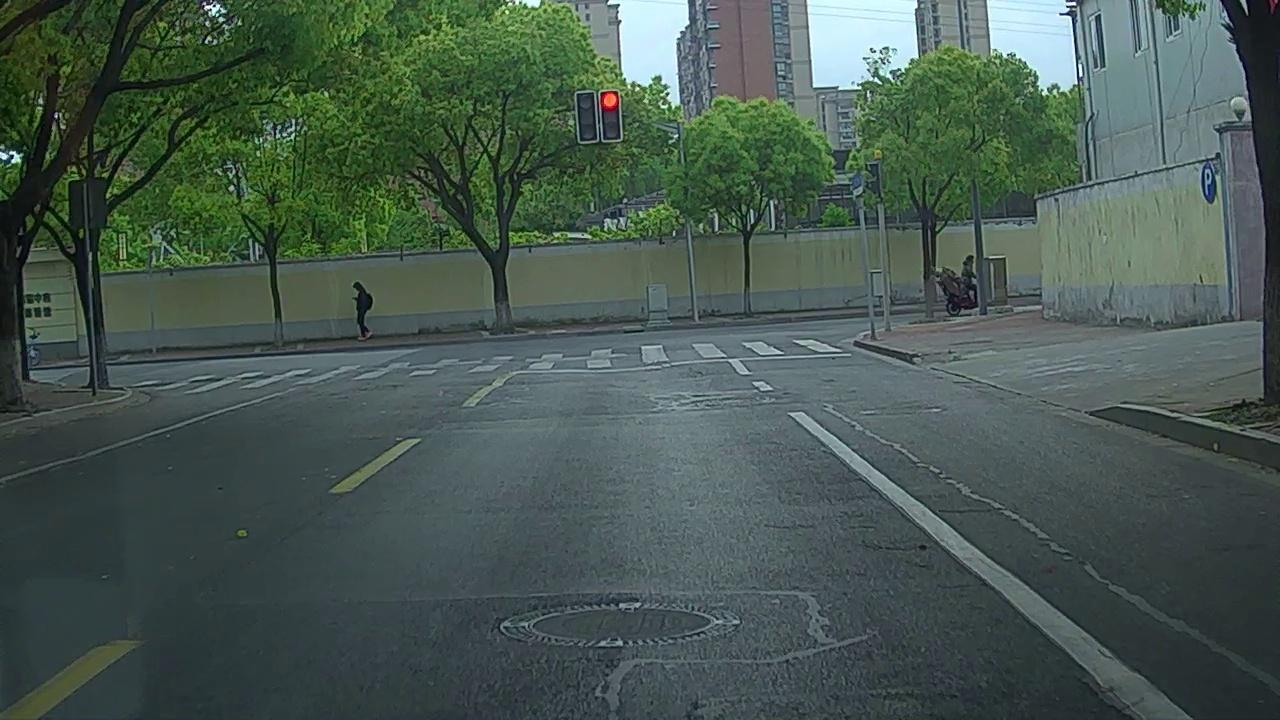traffic_light: (600, 90, 622, 141), (576, 91, 597, 143)
